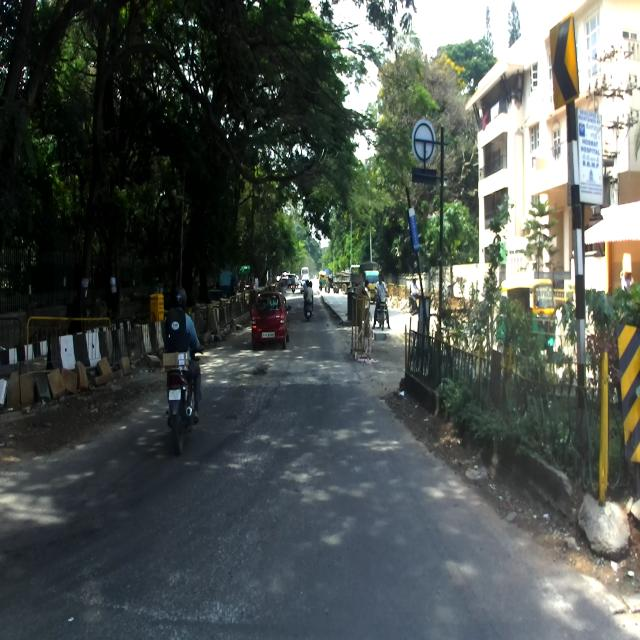car ahead at: (249, 287, 293, 348)
motorcycle ahead at: (158, 348, 208, 442)
sign board ahead at: (545, 9, 582, 104)
